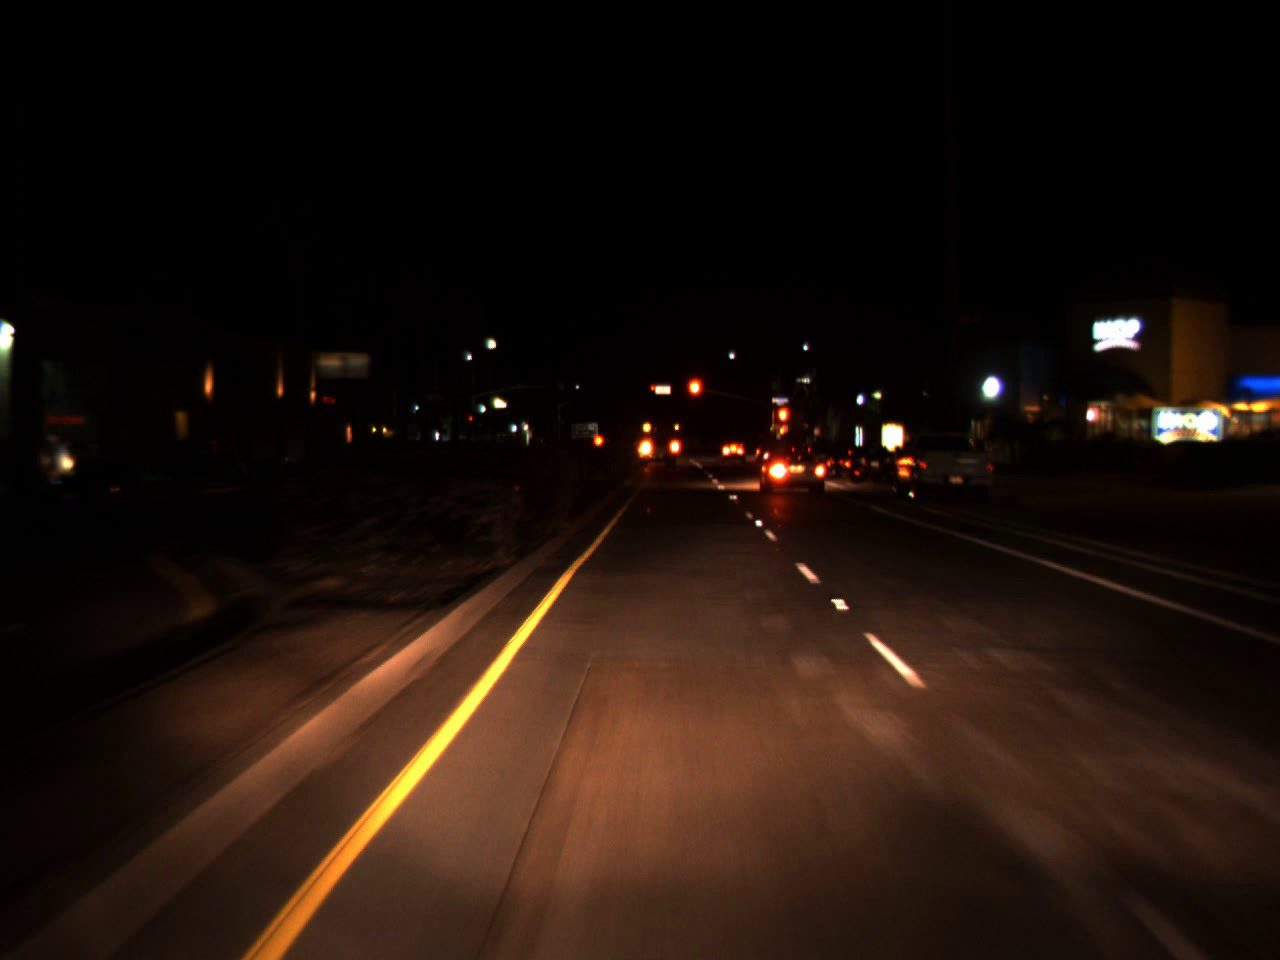stop: (775, 404, 793, 441), (686, 376, 703, 413), (649, 384, 656, 397)
